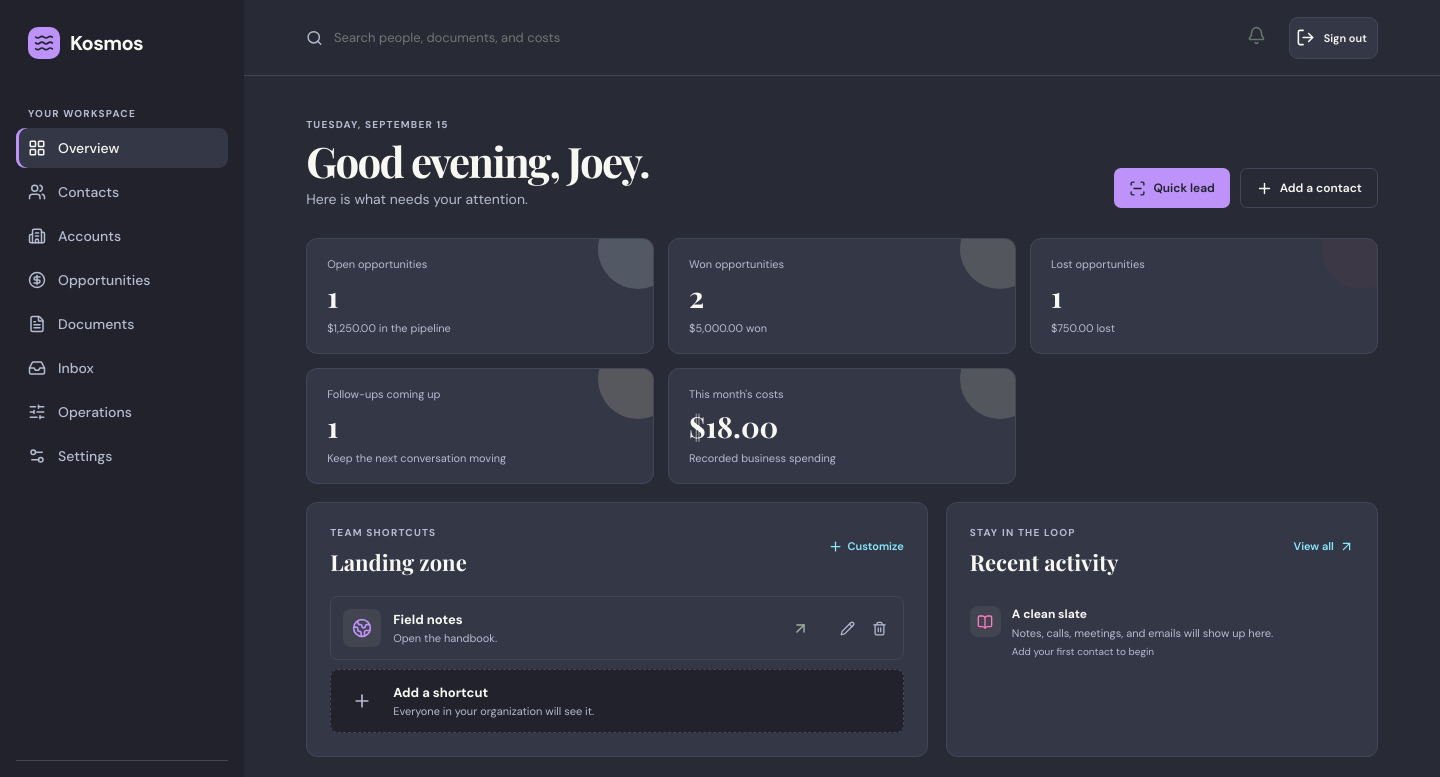
Scenario: Kosmos application › shows Quick Lead as a fixed overview action
expect the heading "Good evening, Joey." is shown: met, box [306,139,649,183]
Click the button "Quick lead" at (1172, 188), box [1114,168,1230,208]
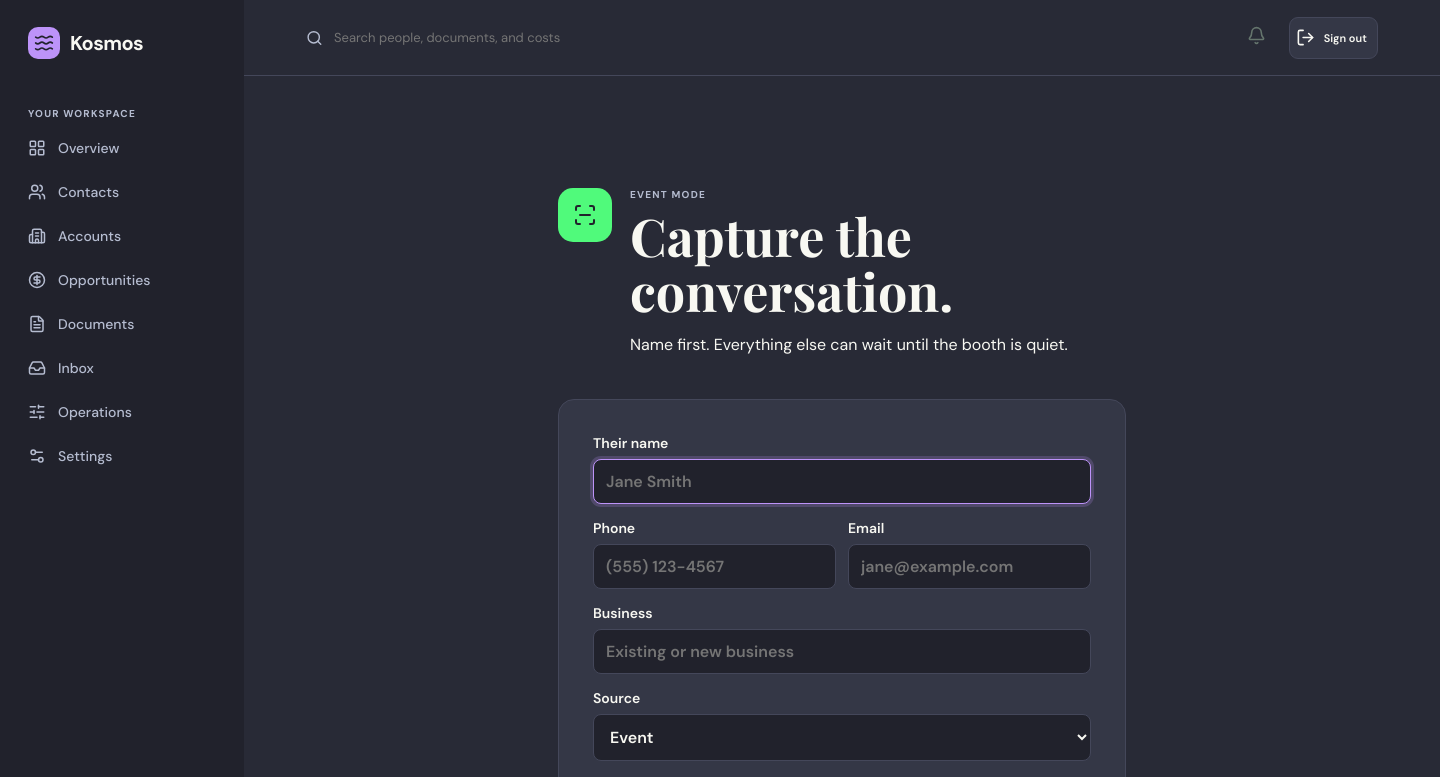
expect the heading "Capture the conversation." is shown: met, box [630,201,953,325]
